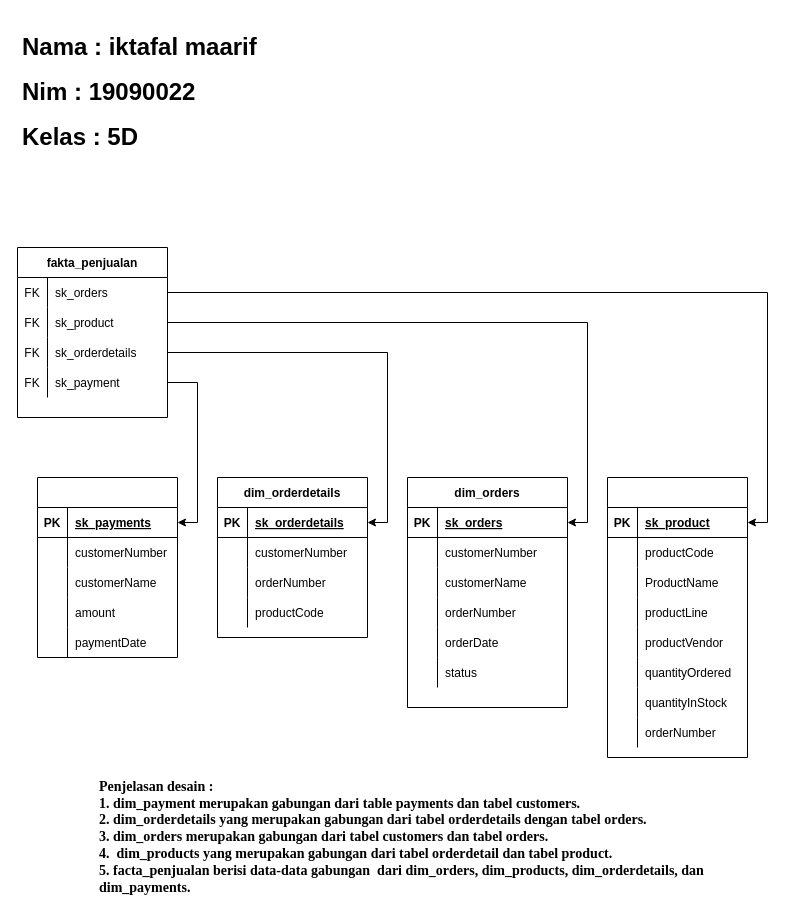
This 793x924 diagram has some shape labels left out. The shapes that lost their labels are listed below. From the top down, each one's box as (x1, y1, x2, y2) in pixels, then its label:
(36, 476, 178, 658): dim_payments
(606, 476, 748, 758): dim_product
